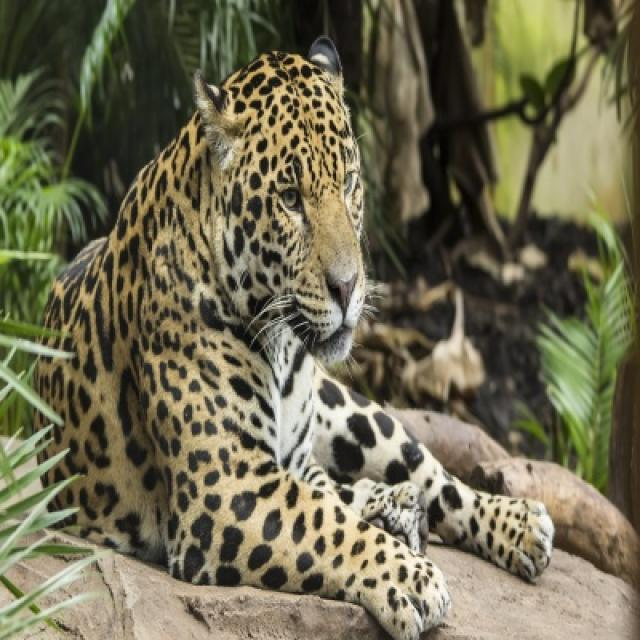Jaguar: (29, 38, 555, 638)
